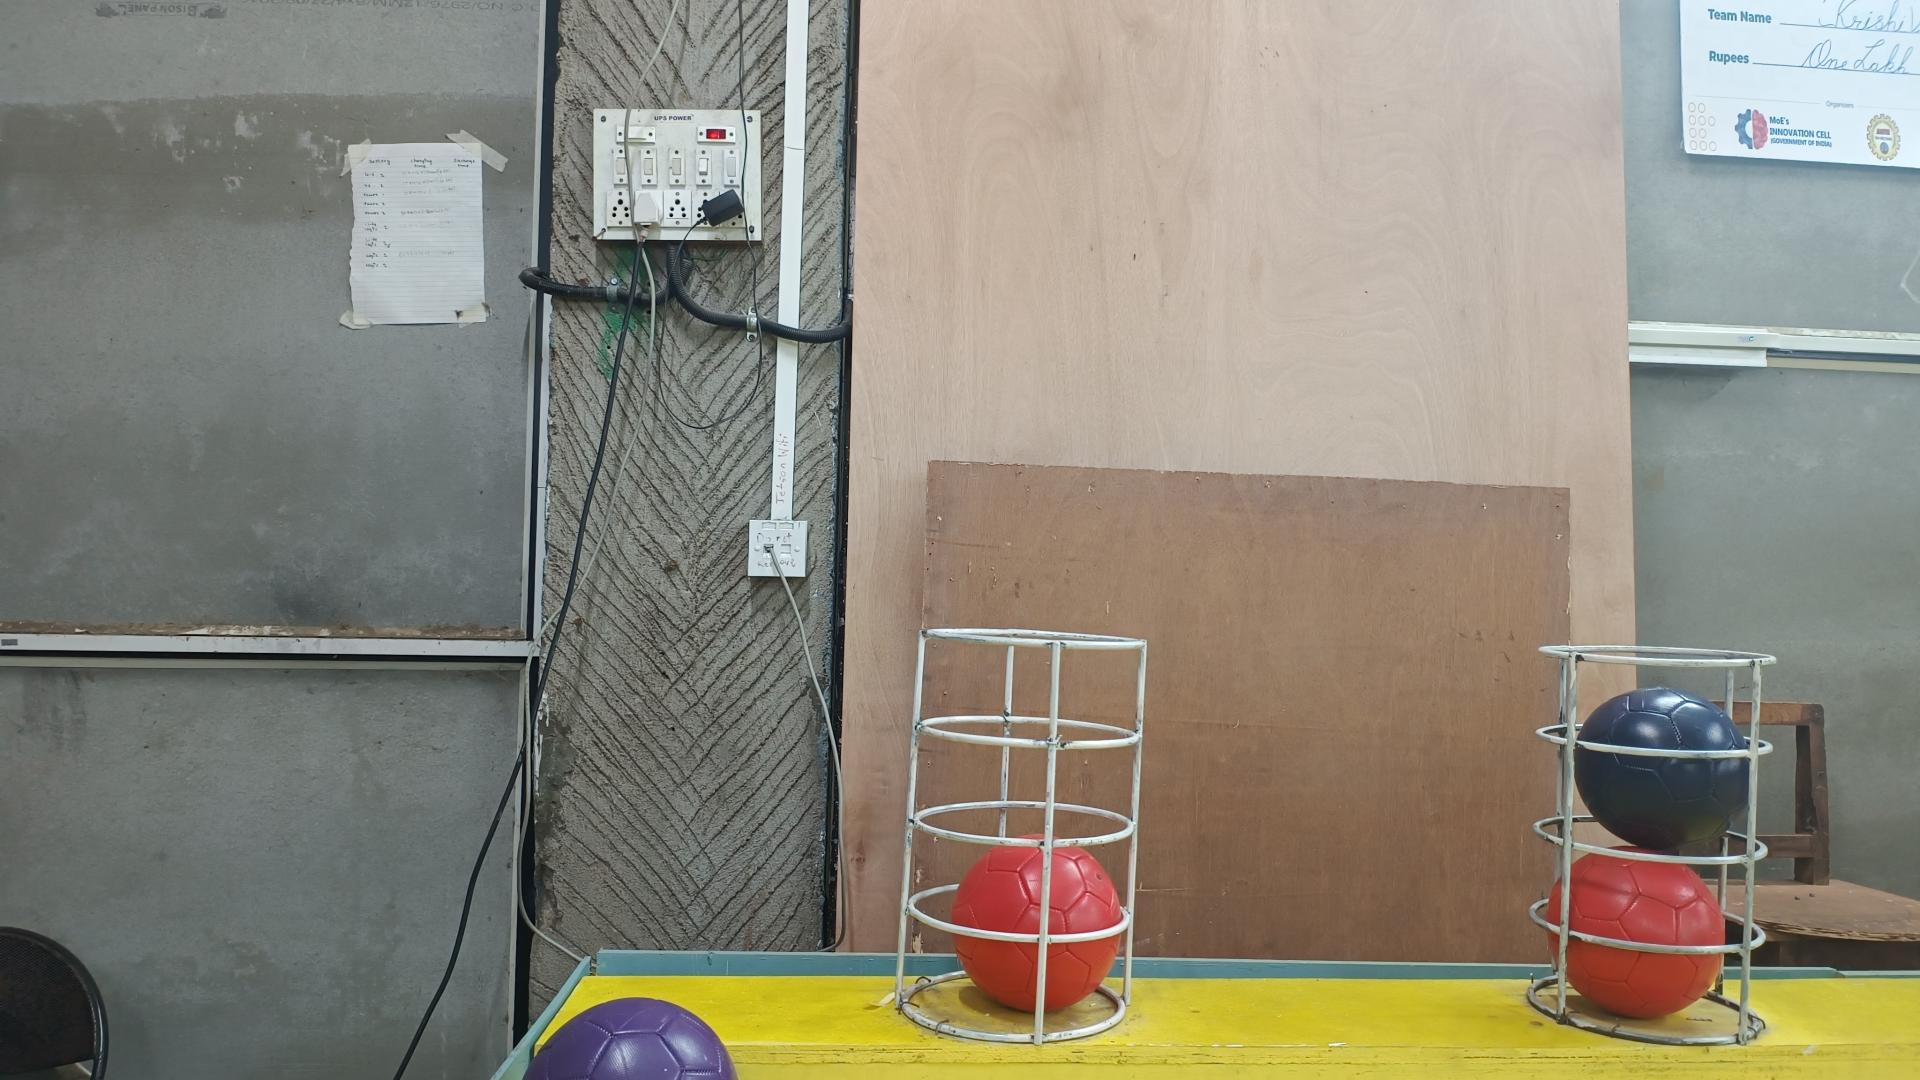dhoka: (1575, 686, 1751, 855)
laale: (948, 844, 1125, 1017), (1545, 852, 1725, 1021)
